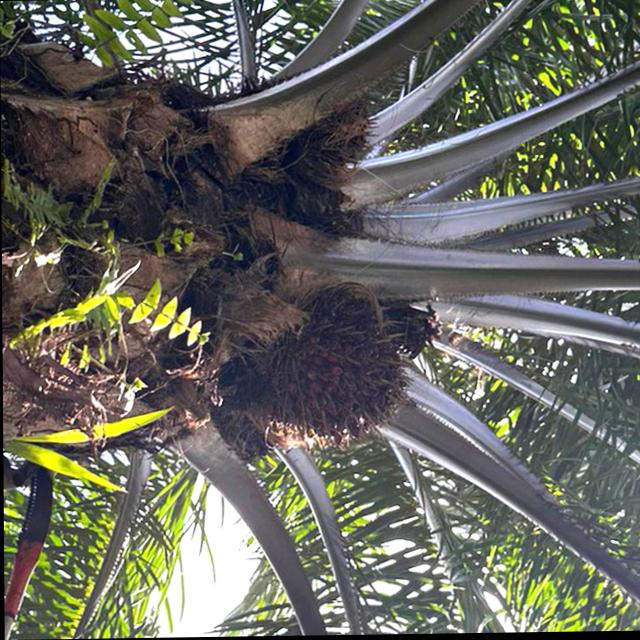ripe: (267, 289, 418, 451)
